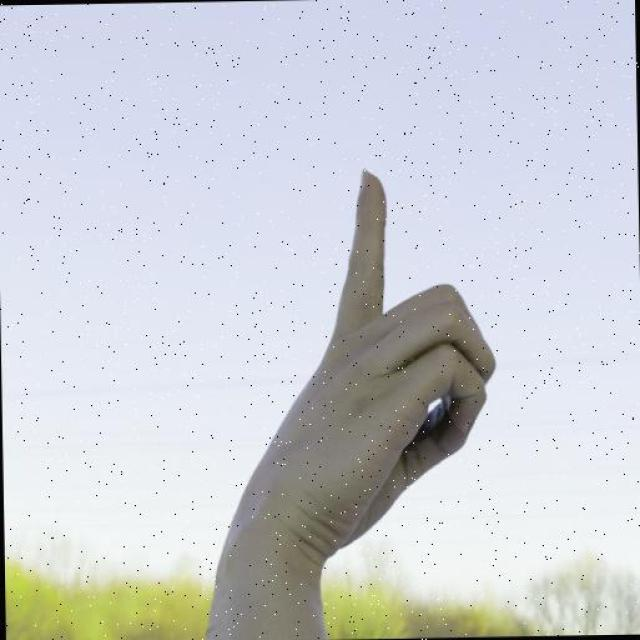D: (205, 164, 504, 560)
